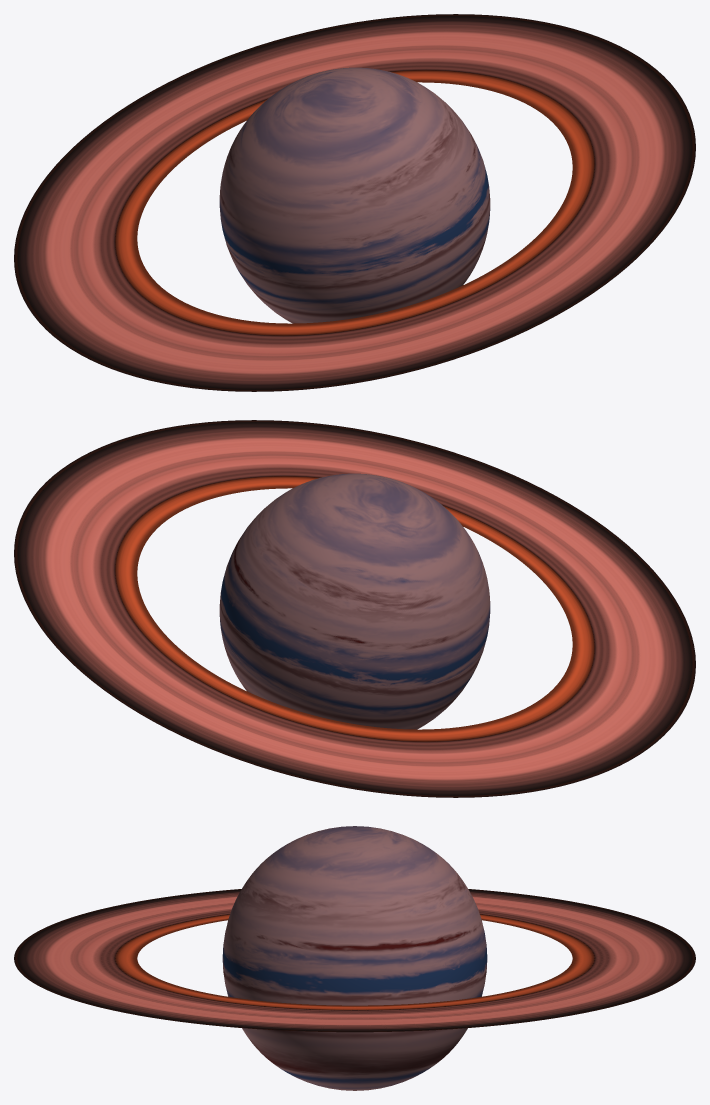
The model's file is planet_saturn.glb.
3 renders of one model, top to bottom at view 1: azimuth 30°, elevation 25°; view 2: azimuth 150°, elevation 25°; view 3: azimuth 270°, elevation 25°, orthographic.
Parts seen in each view (by area): view 1: space_object_001_gas_giant; view 2: space_object_001_gas_giant; view 3: space_object_001_gas_giant.
Part boxes in pixels (<box>): space_object_001_gas_giant: <box>14,14,695,391</box>; space_object_001_gas_giant: <box>14,420,695,797</box>; space_object_001_gas_giant: <box>14,826,695,1090</box>.
Bounding box in the file's own units: 25.2 × 10.02 × 25.81.
2 materials, 2 textured.
